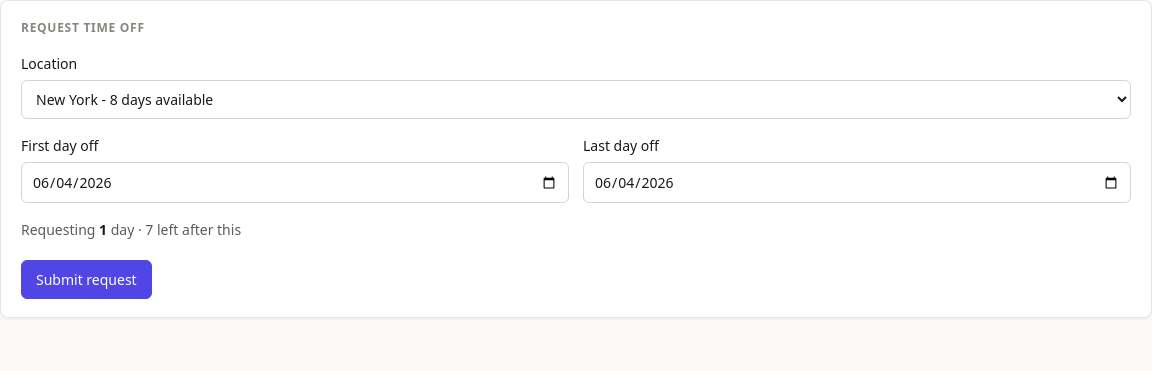
RequestFormView › blocks a request that exceeds the available balance
Type "2026-09-01" into the date field labelled "Last day off" at [857, 182], box x1=583 y1=162 x2=1131 y2=203
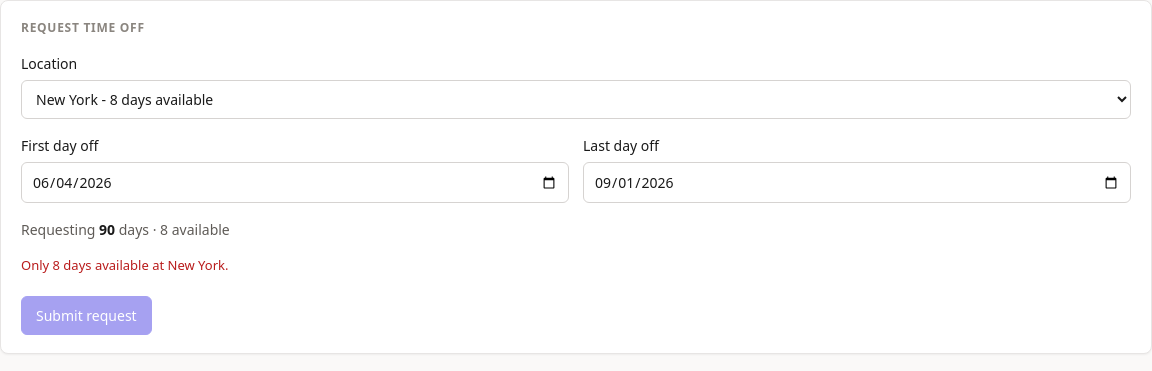
Now the text "Only 8 days available at New York." is shown, box x1=21 y1=256 x2=228 y2=274
Now the button "Submit request" is disabled, box x1=21 y1=296 x2=152 y2=334
